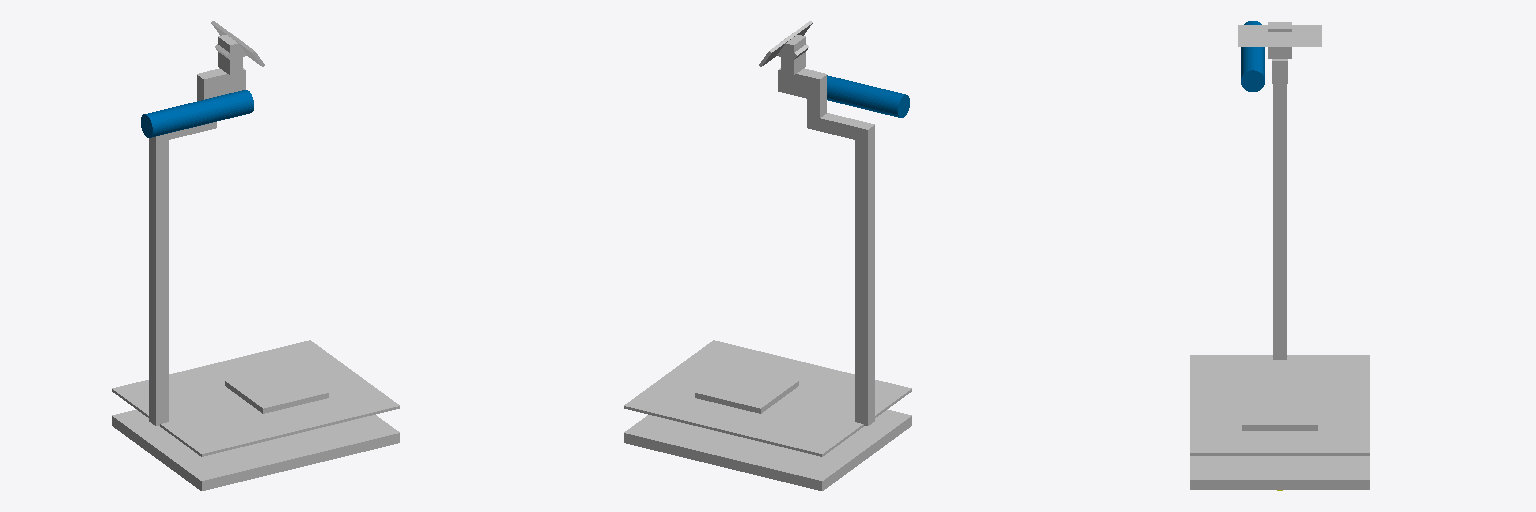
--- Render facts (derived) ---
Views: 3 orthographic renders of the robot side by side, from view 1: azimuth 30°, elevation 25°; view 2: azimuth 150°, elevation 25°; view 3: azimuth 270°, elevation 25°.
Robot: kurtana — 45 links, 44 joints (9 revolute, 6 continuous, 29 fixed); root link base_footprint; default pose: joints at zero except 1 at the middle of their limits (kurtana_pitch_joint = 1).
Links seen in each view (by area): view 1: kurtana_baseplate_link, kurtana_rackplate_link, kurtana_pole_link, katana_baseplate_link, kurtana_microphone_link, kurtana_pitch_servo_link, kurtana_roll_servo_link; view 2: kurtana_baseplate_link, kurtana_rackplate_link, kurtana_pole_link, katana_baseplate_link, kurtana_microphone_link, kurtana_horizontal_square_bar_link, kurtana_vertical_square_bar_link, kurtana_pitch_servo_link, kurtana_roll_servo_link; view 3: kurtana_baseplate_link, kurtana_rackplate_link, kurtana_pole_link, katana_baseplate_link, kurtana_kinect_mounting_plate_link, kurtana_microphone_link.
Link boxes in pixels (<box>): kurtana_baseplate_link: <box>112,340,399,456</box>; kurtana_rackplate_link: <box>112,409,399,490</box>; kurtana_pole_link: <box>149,133,168,425</box>; katana_baseplate_link: <box>225,365,328,413</box>; kurtana_microphone_link: <box>141,90,253,137</box>; kurtana_pitch_servo_link: <box>218,33,242,74</box>; kurtana_roll_servo_link: <box>210,68,245,95</box>; kurtana_baseplate_link: <box>624,340,911,456</box>; kurtana_rackplate_link: <box>624,409,911,490</box>; kurtana_pole_link: <box>855,122,874,425</box>; katana_baseplate_link: <box>695,365,798,413</box>; kurtana_microphone_link: <box>827,75,909,117</box>; kurtana_horizontal_square_bar_link: <box>807,113,862,139</box>; kurtana_vertical_square_bar_link: <box>807,71,826,117</box>; kurtana_pitch_servo_link: <box>781,33,805,74</box>; kurtana_roll_servo_link: <box>778,68,813,98</box>; kurtana_baseplate_link: <box>1190,355,1369,455</box>; kurtana_rackplate_link: <box>1190,456,1369,489</box>; kurtana_pole_link: <box>1273,100,1286,359</box>; katana_baseplate_link: <box>1242,393,1317,430</box>; kurtana_kinect_mounting_plate_link: <box>1238,25,1321,46</box>; kurtana_microphone_link: <box>1241,21,1264,91</box>.
Size in the robot's own frame: 0.525 by 0.368 by 0.9227 metres.
Meshes: 13 distinct files referenced, 0 mesh visuals loaded (none loaded); not drawn: 18 (reference not matched to a file when rendering).

The robot description file, URDF, robot "kurtana":
<?xml version="1.0" ?>
<!-- =================================================================================== -->
<!-- |    This document was autogenerated by xacro from [local-path]/groovy_rosbuild_workspace/kurt_driver/kurt_description/robots/kurtana.urdf.xacro | -->
<!-- |    EDITING THIS FILE BY HAND IS NOT RECOMMENDED                                 | -->
<!-- =================================================================================== -->
<robot name="kurtana" xmlns:controller="http://playerstage.sourceforge.net/gazebo/xmlschema/#controller" xmlns:interface="http://playerstage.sourceforge.net/gazebo/xmlschema/#interface" xmlns:sensor="http://playerstage.sourceforge.net/gazebo/xmlschema/#sensor" xmlns:xacro="http://ros.org/wiki/xacro">
  <!-- distance from base_link to top of cover surface -->
  <link name="ultrasound_front">
    <visual>
      <origin rpy="0 1.57079632679 0" xyz="0 0 0"/>
      <geometry>
        <cylinder length="0.005" radius="0.01"/>
      </geometry>
      <material name="yellow">
        <color rgba="1.0 1.0 0.0 1.0"/>
      </material>
    </visual>
    <collision>
      <origin rpy="0 1.57079632679 0" xyz="0 0 0"/>
      <geometry>
        <cylinder length="0.005" radius="0.01"/>
      </geometry>
    </collision>
    <inertial>
      <mass value="0.01"/>
      <origin xyz="0 0 0"/>
      <inertia ixx="2.70833225e-07" ixy="0.0" ixz="0.0" iyy="2.70833225e-07" iyz="0.0" izz="5e-07"/>
    </inertial>
  </link>
  <link name="ir_right_front">
    <visual>
      <origin rpy="0 0 0" xyz="0 0 0"/>
      <geometry>
        <box size="0.01 0.02 0.01"/>
      </geometry>
      <material name="light_grey">
        <color rgba="0.9 0.9 0.9 1.0"/>
      </material>
    </visual>
    <collision>
      <origin rpy="0 0 0" xyz="0 0 0"/>
      <geometry>
        <box size="0.01 0.02 0.01"/>
      </geometry>
    </collision>
    <inertial>
      <mass value="0.01"/>
      <origin xyz="0 0 0"/>
      <inertia ixx="4.166665e-07" ixy="0.0" ixz="0.0" iyy="1.666666e-07" iyz="0.0" izz="4.166665e-07"/>
    </inertial>
  </link>
  <link name="ir_right">
    <visual>
      <origin rpy="0 0 0" xyz="0 0 0"/>
      <geometry>
        <box size="0.01 0.02 0.01"/>
      </geometry>
      <material name="light_grey">
        <color rgba="0.9 0.9 0.9 1.0"/>
      </material>
    </visual>
    <collision>
      <origin rpy="0 0 0" xyz="0 0 0"/>
      <geometry>
        <box size="0.01 0.02 0.01"/>
      </geometry>
    </collision>
    <inertial>
      <mass value="0.01"/>
      <origin xyz="0 0 0"/>
      <inertia ixx="4.166665e-07" ixy="0.0" ixz="0.0" iyy="1.666666e-07" iyz="0.0" izz="4.166665e-07"/>
    </inertial>
  </link>
  <link name="ir_right_back">
    <visual>
      <origin rpy="0 0 0" xyz="0 0 0"/>
      <geometry>
        <box size="0.01 0.02 0.01"/>
      </geometry>
      <material name="light_grey">
        <color rgba="0.9 0.9 0.9 1.0"/>
      </material>
    </visual>
    <collision>
      <origin rpy="0 0 0" xyz="0 0 0"/>
      <geometry>
        <box size="0.01 0.02 0.01"/>
      </geometry>
    </collision>
    <inertial>
      <mass value="0.01"/>
      <origin xyz="0 0 0"/>
      <inertia ixx="4.166665e-07" ixy="0.0" ixz="0.0" iyy="1.666666e-07" iyz="0.0" izz="4.166665e-07"/>
    </inertial>
  </link>
  <link name="ir_back">
    <visual>
      <origin rpy="0 0 0" xyz="0 0 0"/>
      <geometry>
        <box size="0.01 0.02 0.01"/>
      </geometry>
      <material name="light_grey">
        <color rgba="0.9 0.9 0.9 1.0"/>
      </material>
    </visual>
    <collision>
      <origin rpy="0 0 0" xyz="0 0 0"/>
      <geometry>
        <box size="0.01 0.02 0.01"/>
      </geometry>
    </collision>
    <inertial>
      <mass value="0.01"/>
      <origin xyz="0 0 0"/>
      <inertia ixx="4.166665e-07" ixy="0.0" ixz="0.0" iyy="1.666666e-07" iyz="0.0" izz="4.166665e-07"/>
    </inertial>
  </link>
  <link name="ir_left_back">
    <visual>
      <origin rpy="0 0 0" xyz="0 0 0"/>
      <geometry>
        <box size="0.01 0.02 0.01"/>
      </geometry>
      <material name="light_grey">
        <color rgba="0.9 0.9 0.9 1.0"/>
      </material>
    </visual>
    <collision>
      <origin rpy="0 0 0" xyz="0 0 0"/>
      <geometry>
        <box size="0.01 0.02 0.01"/>
      </geometry>
    </collision>
    <inertial>
      <mass value="0.01"/>
      <origin xyz="0 0 0"/>
      <inertia ixx="4.166665e-07" ixy="0.0" ixz="0.0" iyy="1.666666e-07" iyz="0.0" izz="4.166665e-07"/>
    </inertial>
  </link>
  <link name="ir_left">
    <visual>
      <origin rpy="0 0 0" xyz="0 0 0"/>
      <geometry>
        <box size="0.01 0.02 0.01"/>
      </geometry>
      <material name="light_grey">
        <color rgba="0.9 0.9 0.9 1.0"/>
      </material>
    </visual>
    <collision>
      <origin rpy="0 0 0" xyz="0 0 0"/>
      <geometry>
        <box size="0.01 0.02 0.01"/>
      </geometry>
    </collision>
    <inertial>
      <mass value="0.01"/>
      <origin xyz="0 0 0"/>
      <inertia ixx="4.166665e-07" ixy="0.0" ixz="0.0" iyy="1.666666e-07" iyz="0.0" izz="4.166665e-07"/>
    </inertial>
  </link>
  <link name="ir_left_front">
    <visual>
      <origin rpy="0 0 0" xyz="0 0 0"/>
      <geometry>
        <box size="0.01 0.02 0.01"/>
      </geometry>
      <material name="light_grey">
        <color rgba="0.9 0.9 0.9 1.0"/>
      </material>
    </visual>
    <collision>
      <origin rpy="0 0 0" xyz="0 0 0"/>
      <geometry>
        <box size="0.01 0.02 0.01"/>
      </geometry>
    </collision>
    <inertial>
      <mass value="0.01"/>
      <origin xyz="0 0 0"/>
      <inertia ixx="4.166665e-07" ixy="0.0" ixz="0.0" iyy="1.666666e-07" iyz="0.0" izz="4.166665e-07"/>
    </inertial>
  </link>
  <joint name="base_ultrasound_front" type="fixed">
    <parent link="base_link"/>
    <child link="ultrasound_front"/>
    <origin rpy="0 0 0" xyz="0.217 0 0"/>
  </joint>
  <joint name="base_ir_right_front" type="fixed">
    <parent link="base_link"/>
    <child link="ir_right_front"/>
    <origin rpy="0 0 5.49778714378" xyz="0.203 -0.153 0"/>
  </joint>
  <joint name="base_ir_right" type="fixed">
    <parent link="base_link"/>
    <child link="ir_right"/>
    <origin rpy="0 0 4.71238898038" xyz="0 -0.165 0"/>
  </joint>
  <joint name="base_ir_right_back" type="fixed">
    <parent link="base_link"/>
    <child link="ir_right_back"/>
    <origin rpy="0 0 3.92699081699" xyz="-0.203 -0.153 0"/>
  </joint>
  <joint name="base_ir_back" type="fixed">
    <parent link="base_link"/>
    <child link="ir_back"/>
    <origin rpy="0 0 3.14159265359" xyz="-0.217 0 0"/>
  </joint>
  <joint name="base_ir_left_back" type="fixed">
    <parent link="base_link"/>
    <child link="ir_left_back"/>
    <origin rpy="0 0 2.35619449019" xyz="-0.203 0.153 0"/>
  </joint>
  <joint name="base_ir_left" type="fixed">
    <parent link="base_link"/>
    <child link="ir_left"/>
    <origin rpy="0 0 1.57079632679" xyz="0 0.165 0"/>
  </joint>
  <joint name="base_ir_left_front" type="fixed">
    <parent link="base_link"/>
    <child link="ir_left_front"/>
    <origin rpy="0 0 0.785398163397" xyz="0.203 0.153 0"/>
  </joint>
  <link name="base_link">
    <visual>
      <origin rpy="0 0 0" xyz="0 0 0"/>
      <geometry>
        <mesh filename="package://kurt_description/meshes/kurt_base_outdoor.stl"/>
      </geometry>
      <material name="red">
        <color rgba="1 0 0 1"/>
      </material>
    </visual>
    <collision>
      <origin rpy="0 0 0" xyz="0 0 0"/>
      <geometry>
        <mesh filename="package://kurt_description/meshes/kurt_base_outdoor.stl"/>
      </geometry>
    </collision>
    <!-- <visual>
      <geometry>
        <box size=".43 .325 .215" />
      </geometry>
      <material name="red" >
        <color rgba="1 0 0 1" />
      </material>
    </visual> -->
    <inertial>
      <mass value="15.6"/>
      <origin xyz="0.0 0.0 -0.040426445"/>
      <inertia ixx="0.1185264288" ixy="0.0" ixz="0.0" iyy="0.1927711968" iyz="0.0" izz="0.2402081448"/>
    </inertial>
  </link>
  <gazebo reference="base_link">
    <material value="Gazebo/Red"/>
  </gazebo>
  <gazebo>
    <plugin filename="libgazebo_ros_kurt.so" name="kurt_controller">
      <alwaysOn>true</alwaysOn>
      <cmd_vel_topic_name>cmd_vel</cmd_vel_topic_name>
      <odom_topic_name>odom</odom_topic_name>
      <joint_states_topic_name>joint_states</joint_states_topic_name>
      <left_front_wheel_joint>left_front_wheel_joint</left_front_wheel_joint>
      <left_middle_wheel_joint>left_middle_wheel_joint</left_middle_wheel_joint>
      <left_rear_wheel_joint>left_rear_wheel_joint</left_rear_wheel_joint>
      <right_front_wheel_joint>right_front_wheel_joint</right_front_wheel_joint>
      <right_middle_wheel_joint>right_middle_wheel_joint</right_middle_wheel_joint>
      <right_rear_wheel_joint>right_rear_wheel_joint</right_rear_wheel_joint>
      <wheel_separation>0.39</wheel_separation>
      <wheel_diameter>0.16488</wheel_diameter>
      <turning_adaptation>0.64</turning_adaptation>
      <torque>4.0</torque>
      <max_velocity>1.3</max_velocity>
      <updateRate>40.0</updateRate>
    </plugin>
  </gazebo>
  <gazebo>
    <plugin filename="libgazebo_ros_p3d.so" name="base_footprint_controller">
      <alwaysOn>true</alwaysOn>
      <updateRate>30.0</updateRate>
      <bodyName>base_footprint</bodyName>
      <topicName>base_footprint_pose_ground_truth</topicName>
      <gaussianNoise>0.0</gaussianNoise>
      <frameName>map</frameName>
      <interface:position name="base_footprint_p3d_position_iface"/>
    </plugin>
  </gazebo>
  <gazebo>
    <plugin filename="libgazebo_ros_imu.so" name="imu_controller">
      <alwaysOn>true</alwaysOn>
      <updateRate>100.0</updateRate>
      <bodyName>base_link</bodyName>
      <topicName>imu</topicName>
      <gaussianNoise>2.89e-08</gaussianNoise>
      <xyzOffsets>0 0 0</xyzOffsets>
      <rpyOffsets>0 0 0</rpyOffsets>
      <interface:position name="imu_position"/>
    </plugin>
  </gazebo>
  <link name="left_front_wheel_link">
    <visual>
      <origin rpy="0 0 0" xyz="0 0 0"/>
      <geometry>
        <mesh filename="package://kurt_description/meshes/kurt_wheel_outdoor.stl"/>
      </geometry>
      <material name="blackish">
        <color rgba="0.1 0.1 0.1 1"/>
      </material>
    </visual>
    <collision>
      <origin rpy="0 0 0" xyz="0 0 0"/>
      <geometry>
        <mesh filename="package://kurt_description/meshes/kurt_wheel_outdoor.stl"/>
        <!-- <cylinder length="${wheel_width}" radius="${wheel_radius}" /> -->
      </geometry>
    </collision>
    <inertial>
      <mass value="0.15"/>
      <origin xyz="0 0 0"/>
      <inertia ixx="0.000177810" ixy="0.0" ixz="0.0" iyy="0.000332643" iyz="0.0" izz="0.000177810"/>
    </inertial>
  </link>
  <joint name="left_front_wheel_joint" type="continuous">
    <origin rpy="0 0 0" xyz="0.14 0.14 -0.107"/>
    <parent link="base_link"/>
    <child link="left_front_wheel_link"/>
    <axis xyz="0 1 0"/>
  </joint>
  <gazebo reference="kurt_wheel_left_front">
    <material value="Gazebo/Grey"/>
  </gazebo>
  <link name="left_middle_wheel_link">
    <visual>
      <origin rpy="0 0 0" xyz="0 0 0"/>
      <geometry>
        <mesh filename="package://kurt_description/meshes/kurt_wheel_outdoor.stl"/>
      </geometry>
      <material name="blackish">
        <color rgba="0.1 0.1 0.1 1"/>
      </material>
    </visual>
    <collision>
      <origin rpy="0 0 0" xyz="0 0 0"/>
      <geometry>
        <mesh filename="package://kurt_description/meshes/kurt_wheel_outdoor.stl"/>
        <!-- <cylinder length="${wheel_width}" radius="${wheel_radius}" /> -->
      </geometry>
    </collision>
    <inertial>
      <mass value="0.15"/>
      <origin xyz="0 0 0"/>
      <inertia ixx="0.000177810" ixy="0.0" ixz="0.0" iyy="0.000332643" iyz="0.0" izz="0.000177810"/>
    </inertial>
  </link>
  <joint name="left_middle_wheel_joint" type="continuous">
    <origin rpy="0 0 0" xyz="0 0.195 -0.107"/>
    <parent link="base_link"/>
    <child link="left_middle_wheel_link"/>
    <axis xyz="0 1 0"/>
  </joint>
  <gazebo reference="kurt_wheel_left_middle">
    <material value="Gazebo/Grey"/>
  </gazebo>
  <link name="left_rear_wheel_link">
    <visual>
      <origin rpy="0 0 0" xyz="0 0 0"/>
      <geometry>
        <mesh filename="package://kurt_description/meshes/kurt_wheel_outdoor.stl"/>
      </geometry>
      <material name="blackish">
        <color rgba="0.1 0.1 0.1 1"/>
      </material>
    </visual>
    <collision>
      <origin rpy="0 0 0" xyz="0 0 0"/>
      <geometry>
        <mesh filename="package://kurt_description/meshes/kurt_wheel_outdoor.stl"/>
        <!-- <cylinder length="${wheel_width}" radius="${wheel_radius}" /> -->
      </geometry>
    </collision>
    <inertial>
      <mass value="0.15"/>
      <origin xyz="0 0 0"/>
      <inertia ixx="0.000177810" ixy="0.0" ixz="0.0" iyy="0.000332643" iyz="0.0" izz="0.000177810"/>
    </inertial>
  </link>
  <joint name="left_rear_wheel_joint" type="continuous">
    <origin rpy="0 0 0" xyz="-0.14 0.14 -0.107"/>
    <parent link="base_link"/>
    <child link="left_rear_wheel_link"/>
    <axis xyz="0 1 0"/>
  </joint>
  <gazebo reference="kurt_wheel_left_rear">
    <material value="Gazebo/Grey"/>
  </gazebo>
  <link name="right_front_wheel_link">
    <visual>
      <origin rpy="0 0 0" xyz="0 0 0"/>
      <geometry>
        <mesh filename="package://kurt_description/meshes/kurt_wheel_outdoor.stl"/>
      </geometry>
      <material name="blackish">
        <color rgba="0.1 0.1 0.1 1"/>
      </material>
    </visual>
    <collision>
      <origin rpy="0 0 0" xyz="0 0 0"/>
      <geometry>
        <mesh filename="package://kurt_description/meshes/kurt_wheel_outdoor.stl"/>
        <!-- <cylinder length="${wheel_width}" radius="${wheel_radius}" /> -->
      </geometry>
    </collision>
    <inertial>
      <mass value="0.15"/>
      <origin xyz="0 0 0"/>
      <inertia ixx="0.000177810" ixy="0.0" ixz="0.0" iyy="0.000332643" iyz="0.0" izz="0.000177810"/>
    </inertial>
  </link>
  <joint name="right_front_wheel_joint" type="continuous">
    <origin rpy="0 0 0" xyz="0.14 -0.14 -0.107"/>
    <parent link="base_link"/>
    <child link="right_front_wheel_link"/>
    <axis xyz="0 1 0"/>
  </joint>
  <gazebo reference="kurt_wheel_right_front">
    <material value="Gazebo/Grey"/>
  </gazebo>
  <link name="right_middle_wheel_link">
    <visual>
      <origin rpy="0 0 0" xyz="0 0 0"/>
      <geometry>
        <mesh filename="package://kurt_description/meshes/kurt_wheel_outdoor.stl"/>
      </geometry>
      <material name="blackish">
        <color rgba="0.1 0.1 0.1 1"/>
      </material>
    </visual>
    <collision>
      <origin rpy="0 0 0" xyz="0 0 0"/>
      <geometry>
        <mesh filename="package://kurt_description/meshes/kurt_wheel_outdoor.stl"/>
        <!-- <cylinder length="${wheel_width}" radius="${wheel_radius}" /> -->
      </geometry>
    </collision>
    <inertial>
      <mass value="0.15"/>
      <origin xyz="0 0 0"/>
      <inertia ixx="0.000177810" ixy="0.0" ixz="0.0" iyy="0.000332643" iyz="0.0" izz="0.000177810"/>
    </inertial>
  </link>
  <joint name="right_middle_wheel_joint" type="continuous">
    <origin rpy="0 0 0" xyz="0 -0.195 -0.107"/>
    <parent link="base_link"/>
    <child link="right_middle_wheel_link"/>
    <axis xyz="0 1 0"/>
  </joint>
  <gazebo reference="kurt_wheel_right_middle">
    <material value="Gazebo/Grey"/>
  </gazebo>
  <link name="right_rear_wheel_link">
    <visual>
      <origin rpy="0 0 0" xyz="0 0 0"/>
      <geometry>
        <mesh filename="package://kurt_description/meshes/kurt_wheel_outdoor.stl"/>
      </geometry>
      <material name="blackish">
        <color rgba="0.1 0.1 0.1 1"/>
      </material>
    </visual>
    <collision>
      <origin rpy="0 0 0" xyz="0 0 0"/>
      <geometry>
        <mesh filename="package://kurt_description/meshes/kurt_wheel_outdoor.stl"/>
        <!-- <cylinder length="${wheel_width}" radius="${wheel_radius}" /> -->
      </geometry>
    </collision>
    <inertial>
      <mass value="0.15"/>
      <origin xyz="0 0 0"/>
      <inertia ixx="0.000177810" ixy="0.0" ixz="0.0" iyy="0.000332643" iyz="0.0" izz="0.000177810"/>
    </inertial>
  </link>
  <joint name="right_rear_wheel_joint" type="continuous">
    <origin rpy="0 0 0" xyz="-0.14 -0.14 -0.107"/>
    <parent link="base_link"/>
    <child link="right_rear_wheel_link"/>
    <axis xyz="0 1 0"/>
  </joint>
  <gazebo reference="kurt_wheel_right_rear">
    <material value="Gazebo/Grey"/>
  </gazebo>
  <link name="base_footprint">
    <!-- this needs to have a fake inertial element, otherwise all children will be ignored by Gazebo -->
    <inertial>
      <mass value="0.0001"/>
      <origin xyz="0 0 0"/>
      <inertia ixx="0.0001" ixy="0.0" ixz="0.0" iyy="0.0001" iyz="0.0" izz="0.0001"/>
    </inertial>
  </link>
  <joint name="base_footprint_joint" type="fixed">
    <origin rpy="0 0 0" xyz="0 0 0.18944"/>
    <parent link="base_footprint"/>
    <child link="base_link"/>
  </joint>
  <link name="kurtana_rackplate_link">
    <visual>
      <origin rpy="0 0 0" xyz="0 0 0"/>
      <geometry>
        <box size="0.47 0.368 0.023"/>
      </geometry>
      <material name="grey">
        <color rgba="0.8 0.8 0.8 1"/>
      </material>
    </visual>
    <collision>
      <origin rpy="0 0 0" xyz="0 0 0"/>
      <geometry>
        <box size="0.47 0.368 0.023"/>
      </geometry>
    </collision>
    <inertial>
      <mass value="0.5"/>
      <origin xyz="0 0 0"/>
      <inertia ixx="0.00566470606745" ixy="0.0" ixz="0.0" iyy="0.00922620464285" iyz="0.0" izz="0.0148468273946"/>
    </inertial>
  </link>
  <joint name="kurtana_baseplate_joint" type="fixed">
    <parent link="kurtana_rackplate_link"/>
    <child link="kurtana_baseplate_link"/>
    <origin xyz="0 0 0.0695"/>
  </joint>
  <link name="kurtana_baseplate_link">
    <visual>
      <origin rpy="0 0 0" xyz="0 0 0"/>
      <geometry>
        <box size="0.47 0.368 0.006"/>
      </geometry>
      <material name="grey"/>
    </visual>
    <collision>
      <origin rpy="0 0 0" xyz="0 0 0"/>
      <geometry>
        <box size="0.47 0.368 0.006"/>
      </geometry>
    </collision>
    <inertial>
      <mass value="0.5"/>
      <origin xyz="0 0 0"/>
      <inertia ixx="0.005644164409" ixy="0.0" ixz="0.0" iyy="0.0092056629844" iyz="0.0" izz="0.0148468273946"/>
    </inertial>
  </link>
  <joint name="katana_baseplate_joint" type="fixed">
    <parent link="kurtana_baseplate_link"/>
    <child link="katana_baseplate_link"/>
    <origin xyz="0.05 0 0.009"/>
  </joint>
  <link name="katana_baseplate_link">
    <visual>
      <origin rpy="0 0 0" xyz="0 0 0"/>
      <geometry>
        <box size="0.156 0.156 0.012"/>
      </geometry>
      <material name="grey"/>
    </visual>
    <collision>
      <origin rpy="0 0 0" xyz="0 0 0"/>
      <geometry>
        <box size="0.156 0.156 0.012"/>
      </geometry>
    </collision>
    <inertial>
      <mass value="0.4"/>
      <origin xyz="0 0 0"/>
      <inertia ixx="0.0008159996736" ixy="0.0" ixz="0.0" iyy="0.0008159996736" iyz="0.0" izz="0.00162239935104"/>
    </inertial>
  </link>
  <joint name="kurtana_pole_joint" type="fixed">
    <parent link="kurtana_baseplate_link"/>
    <child link="kurtana_pole_link"/>
    <origin xyz="-0.23 0 0.335"/>
  </joint>
  <link name="kurtana_pole_link">
    <visual>
      <origin rpy="0 0 0" xyz="0 0 0"/>
      <geometry>
        <box size="0.03 0.03 0.67"/>
      </geometry>
      <material name="grey"/>
    </visual>
    <collision>
      <origin rpy="0 0 0" xyz="0 0 0"/>
      <geometry>
        <box size="0.03 0.03 0.67"/>
      </geometry>
    </collision>
    <inertial>
      <mass value="3.0"/>
      <origin xyz="0 0 0"/>
      <inertia ixx="0.11244995502" ixy="0.0" ixz="0.0" iyy="0.11244995502" iyz="0.0" izz="0.00044999982"/>
    </inertial>
  </link>
  <joint name="kurtana_microphone_joint" type="fixed">
    <parent link="kurtana_pole_link"/>
    <child link="kurtana_microphone_link"/>
    <origin xyz="0.06 -0.055 0.37"/>
  </joint>
  <link name="kurtana_microphone_link">
    <visual>
      <origin rpy="0 1.57079632679 0" xyz="0 0 0"/>
      <geometry>
        <cylinder length="0.24" radius="0.025"/>
      </geometry>
      <material name="black"/>
    </visual>
    <collision>
      <origin rpy="0 1.57079632679 0" xyz="0 0 0"/>
      <geometry>
        <cylinder length="0.24" radius="0.025"/>
      </geometry>
    </collision>
    <inertial>
      <mass value="0.3"/>
      <origin xyz="0 0 0"/>
      <inertia ixx="0.00148687440525" ixy="0.0" ixz="0.0" iyy="0.00148687440525" iyz="0.0" izz="9.375e-05"/>
    </inertial>
  </link>
  <joint name="kurtana_horizontal_square_bar_joint" type="fixed">
    <parent link="kurtana_pole_link"/>
    <child link="kurtana_horizontal_square_bar_link"/>
    <origin xyz="0.0715 0 0.32"/>
  </joint>
  <link name="kurtana_horizontal_square_bar_link">
    <visual>
      <origin rpy="0 0 0" xyz="0 0 0"/>
      <geometry>
        <box size="0.113 0.03 0.03"/>
      </geometry>
      <material name="grey"/>
    </visual>
    <collision>
      <origin rpy="0 0 0" xyz="0 0 0"/>
      <geometry>
        <box size="0.113 0.03 0.03"/>
      </geometry>
    </collision>
    <inertial>
      <mass value="0.1"/>
      <origin xyz="0 0 0"/>
      <inertia ixx="1.4999994e-05" ixy="0.0" ixz="0.0" iyy="0.00011390828777" iyz="0.0" izz="0.00011390828777"/>
    </inertial>
  </link>
  <joint name="kurtana_vertical_square_bar_joint" type="fixed">
    <parent link="kurtana_horizontal_square_bar_link"/>
    <child link="kurtana_vertical_square_bar_link"/>
    <origin xyz="0.0415 0 0.05875"/>
  </joint>
  <link name="kurtana_vertical_square_bar_link">
    <visual>
      <origin rpy="0 0 0" xyz="0 0 0"/>
      <geometry>
        <box size="0.03 0.03 0.0875"/>
      </geometry>
      <material name="grey"/>
    </visual>
    <collision>
      <origin rpy="0 0 0" xyz="0 0 0"/>
      <geometry>
        <box size="0.03 0.03 0.0875"/>
      </geometry>
    </collision>
    <inertial>
      <mass value="0.1"/>
      <origin xyz="0 0 0"/>
      <inertia ixx="7.13020548125e-05" ixy="0.0" ixz="0.0" iyy="7.13020548125e-05" iyz="0.0" izz="1.4999994e-05"/>
    </inertial>
  </link>
  <joint name="kurtana_roll_servo_joint" type="fixed">
    <parent link="kurtana_vertical_square_bar_link"/>
    <child link="kurtana_roll_servo_link"/>
    <origin xyz="0.049 0 0.01875"/>
  </joint>
  <link name="kurtana_roll_servo_link">
    <visual>
      <origin rpy="0 0 0" xyz="0 0 0"/>
      <geometry>
        <box size="0.068 0.032 0.05"/>
      </geometry>
      <material name="grey"/>
    </visual>
    <collision>
      <origin rpy="0 0 0" xyz="0 0 0"/>
      <geometry>
        <box size="0.068 0.032 0.05"/>
      </geometry>
    </collision>
    <inertial>
      <mass value="0.15"/>
      <origin xyz="0 0 0"/>
      <inertia ixx="4.404998238e-05" ixy="0.0" ixz="0.0" iyy="8.904996438e-05" iyz="0.0" izz="7.059997176e-05"/>
    </inertial>
  </link>
  <joint name="kurtana_roll_joint" type="revolute">
    <parent link="kurtana_roll_servo_link"/>
    <child link="kurtana_pitch_servo_link"/>
    <origin xyz="0.008 0 0.059"/>
    <axis xyz="0 0 1"/>
    <limit effort="1000.0" lower="-0.5" upper="0.5" velocity="2.0"/>
  </joint>
  <link name="kurtana_pitch_servo_link">
    <visual>
      <origin rpy="0 0 0" xyz="0 0 0"/>
      <geometry>
        <box size="0.032 0.05 0.068"/>
      </geometry>
      <material name="grey"/>
    </visual>
    <collision>
      <origin rpy="0 0 0" xyz="0 0 0"/>
      <geometry>
        <box size="0.032 0.05 0.068"/>
      </geometry>
    </collision>
    <inertial>
      <mass value="0.15"/>
      <origin xyz="0 0 0"/>
      <inertia ixx="8.904996438e-05" ixy="0.0" ixz="0.0" iyy="7.059997176e-05" iyz="0.0" izz="4.404998238e-05"/>
    </inertial>
  </link>
  <joint name="kurtana_pitch_joint" type="revolute">
    <parent link="kurtana_pitch_servo_link"/>
    <child link="kurtana_pitch_servo_movable_part_link"/>
    <origin rpy="0 0 0" xyz="0 0 0.008"/>
    <axis xyz="0 1 0"/>
    <limit effort="1000.0" lower="0.8" upper="1.2" velocity="2.0"/>
  </joint>
  <link name="kurtana_pitch_servo_movable_part_link">
    <visual>
      <origin rpy="0 0 0" xyz="0 0 0"/>
      <geometry>
        <box size="0.032 0.05 0.035"/>
      </geometry>
      <material name="grey"/>
    </visual>
    <collision>
      <origin rpy="0 0 0" xyz="0 0 0"/>
      <geometry>
        <box size="0.032 0.05 0.035"/>
      </geometry>
    </collision>
    <inertial>
      <mass value="0.15"/>
      <origin xyz="0 0 0"/>
      <inertia ixx="4.6562481375e-05" ixy="0.0" ixz="0.0" iyy="2.8112488755e-05" iyz="0.0" izz="4.404998238e-05"/>
    </inertial>
  </link>
  <joint name="kurtana_kinect_mounting_plate_joint" type="fixed">
    <parent link="kurtana_pitch_servo_movable_part_link"/>
    <child link="kurtana_kinect_mounting_plate_link"/>
    <origin rpy="0 0 0" xyz="0 0 0.021"/>
  </joint>
  <link name="kurtana_kinect_mounting_plate_link">
    <visual>
      <origin rpy="0 0 0" xyz="0 0 0"/>
      <geometry>
        <box size="0.045 0.17 0.007"/>
      </geometry>
      <material name="grey"/>
    </visual>
    <collision>
      <origin rpy="0 0 0" xyz="0 0 0"/>
      <geometry>
        <box size="0.045 0.17 0.007"/>
      </geometry>
    </collision>
    <inertial>
      <mass value="0.05"/>
      <origin xyz="0 0 0"/>
      <inertia ixx="0.000120620785085" ixy="0.0" ixz="0.0" iyy="8.64166321e-06" iyz="0.0" izz="0.000128854115125"/>
    </inertial>
  </link>
  <transmission name="kurtana_stretch_trans" type="pr2_mechanism_model/SimpleTransmission">
    <actuator name="kurtana_stretch_motor"/>
    <joint name="kurtana_stretch_joint"/>
    <mechanicalReduction>1</mechanicalReduction>
    <motorTorqueConstant>1</motorTorqueConstant>
  </transmission>
  <transmission name="kurtana_roll_trans" type="pr2_mechanism_model/SimpleTransmission">
    <actuator name="kurtana_roll_motor"/>
    <joint name="kurtana_roll_joint"/>
    <mechanicalReduction>1</mechanicalReduction>
    <motorTorqueConstant>1</motorTorqueConstant>
  </transmission>
  <transmission name="kurtana_pitch_trans" type="pr2_mechanism_model/SimpleTransmission">
    <actuator name="kurtana_pitch_motor"/>
    <joint name="kurtana_pitch_joint"/>
    <mechanicalReduction>1</mechanicalReduction>
    <motorTorqueConstant>1</motorTorqueConstant>
  </transmission>
  <gazebo reference="kurtana_rackplate_link">
    <material value="PR2/Grey1"/>
  </gazebo>
  <gazebo reference="kurtana_baseplate_link">
    <material value="PR2/Grey1"/>
  </gazebo>
  <gazebo reference="kurtana_pole_link">
    <material value="PR2/Grey1"/>
  </gazebo>
  <gazebo reference="kurtana_innerpole_stretch_link">
    <material value="PR2/Grey1"/>
  </gazebo>
  <gazebo reference="kurtana_poletop_roll_link">
    <material value="PR2/Grey1"/>
  </gazebo>
  <gazebo reference="kurtana_pitchpole_link">
    <material value="PR2/Grey1"/>
  </gazebo>
  <link name="kinect_link">
    <visual>
      <origin rpy="0 0 0" xyz="0 0 0"/>
      <geometry>
        <mesh filename="package://pr2_description/meshes/sensors/kinect_v0/kinect.dae" scale="0.001 0.001 0.001"/>
      </geometry>
    </visual>
    <collision>
      <origin rpy="0 0 0" xyz="-0.0315 0 -0.017"/>
      <geometry>
        <box size="0.0730 0.2760 0.0720"/>
      </geometry>
    </collision>
    <inertial>
      <mass value="0.43"/>
      <origin xyz="0 0 0"/>
      <inertia ixx="0.00291539883384" ixy="0.0" ixz="0.0" iyy="0.000376715682647" iyz="0.0" izz="0.0029205946651"/>
    </inertial>
  </link>
  <joint name="kinect_depth_joint" type="fixed">
    <origin rpy="0 0 0" xyz="0 0.018 0"/>
    <parent link="kinect_link"/>
    <child link="kinect_depth_frame"/>
  </joint>
  <link name="kinect_depth_frame">
    <inertial>
      <mass value="0.000001"/>
      <origin xyz="0 0 0"/>
      <inertia ixx="0.0001" ixy="0.0" ixz="0.0" iyy="0.0001" iyz="0.0" izz="0.0001"/>
    </inertial>
  </link>
  <joint name="kinect_depth_optical_joint" type="fixed">
    <origin rpy="-1.57079632679 0 -1.57079632679" xyz="0 0 0"/>
    <parent link="kinect_depth_frame"/>
    <child link="kinect_depth_optical_frame"/>
  </joint>
  <link name="kinect_depth_optical_frame">
    <inertial>
      <mass value="0.000001"/>
      <origin xyz="0 0 0"/>
      <inertia ixx="0.0001" ixy="0.0" ixz="0.0" iyy="0.0001" iyz="0.0" izz="0.0001"/>
    </inertial>
  </link>
  <gazebo reference="kinect_depth_frame">
    <sensor name="kinect_depth_frame_ir_sensor" type="depth">
      <always_on>true</always_on>
      <update_rate>1.0</update_rate>
      <camera>
        <horizontal_fov>0.994837673637</horizontal_fov>
        <image>
          <format>L8</format>
          <width>640</width>
          <height>480</height>
        </image>
        <clip>
          <near>0.01</near>
          <far>5</far>
        </clip>
      </camera>
      <plugin filename="libgazebo_ros_openni_kinect.so" name="kinect_depth_frame_controller">
        <alwaysOn>true</alwaysOn>
        <updateRate>1.0</updateRate>
        <cameraName>kinect_ir</cameraName>
        <imageTopicName>/kinect/depth/image_raw</imageTopicName>
        <cameraInfoTopicName>/kinect/depth/camera_info</cameraInfoTopicName>
        <depthImageTopicName>/kinect/depth/image_raw</depthImageTopicName>
        <depthImageInfoTopicName>/kinect/depth/camera_info</depthImageInfoTopicName>
        <pointCloudTopicName>/kinect/depth/points</pointCloudTopicName>
        <frameName>kinect_depth_optical_frame</frameName>
        <pointCloudCutoff>0.5</pointCloudCutoff>
        <distortionK1>0.00000001</distortionK1>
        <distortionK2>0.00000001</distortionK2>
        <distortionK3>0.00000001</distortionK3>
        <distortionT1>0.00000001</distortionT1>
        <distortionT2>0.00000001</distortionT2>
      </plugin>
    </sensor>
    <material value="Gazebo/Red"/>
  </gazebo>
  <joint name="kinect_rgb_joint" type="fixed">
    <origin rpy="0 0 0" xyz="0 -0.005 0"/>
    <parent link="kinect_link"/>
    <child link="kinect_rgb_frame"/>
  </joint>
  <link name="kinect_rgb_frame">
    <inertial>
      <mass value="0.000001"/>
      <origin xyz="0 0 0"/>
      <inertia ixx="0.0001" ixy="0.0" ixz="0.0" iyy="0.0001" iyz="0.0" izz="0.0001"/>
    </inertial>
  </link>
  <joint name="kinect_rgb_optical_joint" type="fixed">
    <origin rpy="-1.57079632679 0 -1.57079632679" xyz="0 0 0"/>
    <parent link="kinect_rgb_frame"/>
    <child link="kinect_rgb_optical_frame"/>
  </joint>
  <link name="kinect_rgb_optical_frame">
    <inertial>
      <mass value="0.000001"/>
      <origin xyz="0 0 0"/>
      <inertia ixx="0.0001" ixy="0.0" ixz="0.0" iyy="0.0001" iyz="0.0" izz="0.0001"/>
    </inertial>
  </link>
  <gazebo reference="kinect_rgb_frame">
    <sensor name="kinect_rgb_sensor" type="depth">
      <always_on>true</always_on>
      <update_rate>1.0</update_rate>
      <camera>
        <horizontal_fov>0.994837673637</horizontal_fov>
        <image>
          <format>R8G8B8</format>
          <width>640</width>
          <height>480</height>
        </image>
        <clip>
          <near>0.01</near>
          <far>5</far>
        </clip>
      </camera>
      <plugin filename="libgazebo_ros_openni_kinect.so" name="kinect_rgb_frame_controller">
        <alwaysOn>true</alwaysOn>
        <updateRate>1.0</updateRate>
        <cameraName>kinect_rgb</cameraName>
        <imageTopicName>/kinect/rgb/image_raw</imageTopicName>
        <cameraInfoTopicName>/kinect/rgb/camera_info</cameraInfoTopicName>
        <pointCloudTopicName>/kinect/depth_registered/points</pointCloudTopicName>
        <frameName>kinect_rgb_optical_frame</frameName>
        <pointCloudCutoff>0.5</pointCloudCutoff>
        <distortionK1>0.00000001</distortionK1>
        <distortionK2>0.00000001</distortionK2>
        <distortionK3>0.00000001</distortionK3>
        <distortionT1>0.00000001</distortionT1>
        <distortionT2>0.00000001</distortionT2>
      </plugin>
    </sensor>
    <material value="Gazebo/Red"/>
  </gazebo>
  <joint name="kurtana_kinect_joint" type="fixed">
    <parent link="kurtana_kinect_mounting_plate_link"/>
    <child link="kinect_link"/>
    <origin rpy="0 0 0" xyz="0.03 0.0 0.018"/>
  </joint>
  <link name="laser_mount_link">
    <inertial>
      <mass value="0.001"/>
      <origin xyz="0 0 0"/>
      <inertia ixx="0.000001" ixy="0.0" ixz="0.0" iyy="0.000001" iyz="0.0" izz="0.000001"/>
    </inertial>
  </link>
  <joint name="laser_joint" type="fixed">
    <parent link="laser_mount_link"/>
    <child link="laser"/>
    <origin rpy="0 0 0" xyz="0 0 0.05609"/>
  </joint>
  <link name="laser">
    <visual>
      <geometry>
        <mesh filename="package://sick_tim3xx/meshes/sick_tim3xx.stl"/>
      </geometry>
      <material name="blue">
        <color rgba="0 0 1 1"/>
      </material>
    </visual>
    <collision>
      <geometry>
        <mesh filename="package://sick_tim3xx/meshes/sick_tim3xx.stl"/>
      </geometry>
    </collision>
    <inertial>
      <mass value="0.15"/>
      <origin xyz="0 0 -0.026"/>
      <inertia ixx="0.00012499995" ixy="0.0" ixz="0.0" iyy="0.00012499995" iyz="0.0" izz="8.9999964e-05"/>
    </inertial>
  </link>
  <gazebo reference="laser">
    <material value="Gazebo/Blue"/>
    <sensor:ray name="laser">
      <rayCount>271</rayCount>
      <rangeCount>271</rangeCount>
      <laserCount>1</laserCount>
      <origin>0.0 0.0 0.0</origin>
      <displayRays>false</displayRays>
      <minAngle>-135</minAngle>
      <maxAngle>135</maxAngle>
      <minRange>0.05</minRange>
      <maxRange>4.0</maxRange>
      <resRange>0.01</resRange>
      <updateRate>15.0</updateRate>
      <controller:gazebo_ros_laser name="gazebo_ros_laser_controller" plugin="libgazebo_ros_laser.so">
        <gaussianNoise>0.005</gaussianNoise>
        <alwaysOn>true</alwaysOn>
        <updateRate>15.0</updateRate>
        <topicName>scan</topicName>
        <frameName>laser</frameName>
        <interface:laser name="gazebo_ros_laser_iface"/>
      </controller:gazebo_ros_laser>
    </sensor:ray>
  </gazebo>
  <joint name="kurtana_laser_joint" type="fixed">
    <parent link="kurtana_baseplate_link"/>
    <child link="laser_mount_link"/>
    <origin rpy="0 0 0" xyz="0.205 0 0.003"/>
  </joint>
  <transmission name="katana_motor1_pan_trans" type="pr2_mechanism_model/SimpleTransmission">
    <actuator name="katana_motor1_pan_motor"/>
    <joint name="katana_motor1_pan_joint"/>
    <mechanicalReduction>1</mechanicalReduction>
    <motorTorqueConstant>1</motorTorqueConstant>
  </transmission>
  <transmission name="katana_motor2_lift_trans" type="pr2_mechanism_model/SimpleTransmission">
    <actuator name="katana_motor2_lift_motor"/>
    <joint name="katana_motor2_lift_joint"/>
    <mechanicalReduction>1</mechanicalReduction>
    <motorTorqueConstant>1</motorTorqueConstant>
  </transmission>
  <transmission name="katana_motor3_lift_trans" type="pr2_mechanism_model/SimpleTransmission">
    <actuator name="katana_motor3_lift_motor"/>
    <joint name="katana_motor3_lift_joint"/>
    <mechanicalReduction>1</mechanicalReduction>
    <motorTorqueConstant>1</motorTorqueConstant>
  </transmission>
  <transmission name="katana_motor4_lift_trans" type="pr2_mechanism_model/SimpleTransmission">
    <actuator name="katana_motor4_lift_motor"/>
    <joint name="katana_motor4_lift_joint"/>
    <mechanicalReduction>1</mechanicalReduction>
    <motorTorqueConstant>1</motorTorqueConstant>
  </transmission>
  <transmission name="katana_motor5_wrist_roll_trans" type="pr2_mechanism_model/SimpleTransmission">
    <actuator name="katana_motor5_wrist_roll_motor"/>
    <joint name="katana_motor5_wrist_roll_joint"/>
    <mechanicalReduction>1</mechanicalReduction>
    <motorTorqueConstant>1</motorTorqueConstant>
  </transmission>
  <transmission name="katana_r_finger_trans" type="pr2_mechanism_model/SimpleTransmission">
    <actuator name="katana_r_finger_motor"/>
    <joint name="katana_r_finger_joint"/>
    <mechanicalReduction>1</mechanicalReduction>
    <motorTorqueConstant>1</motorTorqueConstant>
  </transmission>
  <transmission name="katana_l_finger_trans" type="pr2_mechanism_model/SimpleTransmission">
    <actuator name="katana_l_finger_motor"/>
    <joint name="katana_l_finger_joint"/>
    <mechanicalReduction>1</mechanicalReduction>
    <motorTorqueConstant>1</motorTorqueConstant>
  </transmission>
  <gazebo>
    <!-- controller for the 5 arm joints -->
    <plugin filename="libgazebo_ros_controller_manager.so" name="gazebo_ros_controller_manager">
      <alwaysOn>true</alwaysOn>
      <updateRate>1000.0</updateRate>
      <interface:audio name="gazebo_ros_controller_manager_dummy_iface"/>
    </plugin>
    <!-- gripper controller -->
    <plugin filename="libgazebo_ros_katana_gripper.so" name="katana_gripper_controller">
      <alwaysOn>true</alwaysOn>
      <node_namespace>katana</node_namespace>
      <r_finger_joint>katana_r_finger_joint</r_finger_joint>
      <l_finger_joint>katana_l_finger_joint</l_finger_joint>
      <updateRate>1000.0</updateRate>
      <max_torque>0.5</max_torque>
    </plugin>
    <!-- a formal implementation of grasp hack in gazebo with fixed joint -->
    <gripper name="katana_gripper_grasp_hack">
      <grasp_check attach_steps="20" detach_steps="40" min_contact_count="2"/>
      <gripper_link>katana_r_finger_link</gripper_link>
      <gripper_link>katana_l_finger_link</gripper_link>
      <palm_link>katana_gripper_link</palm_link>
    </gripper>
  </gazebo>
  <gazebo reference="katana_base_link">
    <material value="Gazebo/Grey"/>
  </gazebo>
  <gazebo reference="katana_motor1_pan_link">
    <material value="Gazebo/Grey"/>
    <turnGravityOff>true</turnGravityOff>
  </gazebo>
  <gazebo reference="katana_motor2_lift_link">
    <material value="Gazebo/Grey"/>
    <turnGravityOff>true</turnGravityOff>
  </gazebo>
  <gazebo reference="katana_motor3_lift_link">
    <material value="Gazebo/Grey"/>
    <turnGravityOff>true</turnGravityOff>
  </gazebo>
  <gazebo reference="katana_motor4_lift_link">
    <material value="Gazebo/Grey"/>
    <turnGravityOff>true</turnGravityOff>
  </gazebo>
  <gazebo reference="katana_motor5_wrist_roll_link">
    <material value="Gazebo/Grey"/>
    <turnGravityOff>true</turnGravityOff>
  </gazebo>
  <gazebo reference="katana_gripper_link">
    <material value="Gazebo/Grey"/>
    <turnGravityOff>true</turnGravityOff>
  </gazebo>
  <gazebo reference="katana_r_finger_link">
    <material value="Gazebo/Grey"/>
    <turnGravityOff>true</turnGravityOff>
  </gazebo>
  <gazebo reference="katana_l_finger_link">
    <material value="Gazebo/Grey"/>
    <turnGravityOff>true</turnGravityOff>
  </gazebo>
  <gazebo reference="katana_motor1_pan_joint">
    <initial_joint_position>-3.022</initial_joint_position>
  </gazebo>
  <gazebo reference="katana_motor2_lift_joint">
    <initial_joint_position>2.163</initial_joint_position>
  </gazebo>
  <gazebo reference="katana_motor3_lift_joint">
    <initial_joint_position>-2.207</initial_joint_position>
  </gazebo>
  <gazebo reference="katana_motor4_lift_joint">
    <initial_joint_position>-2.026</initial_joint_position>
  </gazebo>
  <gazebo reference="katana_motor5_wrist_roll_joint">
    <initial_joint_position>-2.990</initial_joint_position>
  </gazebo>
  <gazebo reference="katana_r_finger_joint">
    <initial_joint_position>0.3</initial_joint_position>
  </gazebo>
  <gazebo reference="katana_l_finger_joint">
    <initial_joint_position>0.3</initial_joint_position>
  </gazebo>
  <link name="katana_base_link">
    <visual>
      <origin rpy="0 0 0" xyz="0 0 0"/>
      <geometry>
        <mesh filename="package://katana_description/meshes/katana/katana_base_link.stl"/>
      </geometry>
      <material name="grey">
        <color rgba="0.8 0.8 0.8 1"/>
      </material>
    </visual>
    <collision>
      <origin rpy="0 0 0" xyz="0 0 0"/>
      <geometry>
        <mesh filename="package://katana_description/meshes/katana/convex/katana_base_link_convex.stl"/>
      </geometry>
    </collision>
    <inertial>
      <mass value="1.4047990875"/>
      <origin xyz="-0.000327 0.000908 0.058457"/>
      <inertia ixx="0.003000703" ixy="0.000000864" ixz="-0.000011312" iyy="0.002974822" iyz="0.000036294" izz="0.001434739"/>
    </inertial>
  </link>
  <joint name="katana_motor1_pan_joint" type="revolute">
    <!-- Joint 1 in Katana Manual -->
    <parent link="katana_base_link"/>
    <child link="katana_motor1_pan_link"/>
    <origin rpy="0 0 0" xyz="0 0 0.2015"/>
    <axis xyz="0 0 1"/>
    <limit effort="1.5" lower="-3.025528" upper="2.891097" velocity="2.208932"/>
  </joint>
  <link name="katana_motor1_pan_link">
    <visual>
      <origin rpy="0 0 0" xyz="0 0 -0.2015"/>
      <geometry>
        <mesh filename="package://katana_description/meshes/katana/katana_motor1_pan_link.stl"/>
      </geometry>
      <material name="grey"/>
    </visual>
    <collision>
      <origin rpy="0 0 0" xyz="0 0 -0.2015"/>
      <geometry>
        <mesh filename="package://katana_description/meshes/katana/convex/katana_motor1_pan_link_convex.stl"/>
      </geometry>
    </collision>
    <inertial>
      <mass value="0.74793301875"/>
      <origin xyz="-0.000410 -0.001285 -0.016774"/>
      <inertia ixx="0.001737241" ixy="0.000000421" ixz="0.000000650" iyy="0.000998782" iyz="0.000016114" izz="0.001349170"/>
    </inertial>
  </link>
  <joint name="katana_motor2_lift_joint" type="revolute">
    <!-- Joint 2 in Katana Manual -->
    <parent link="katana_motor1_pan_link"/>
    <child link="katana_motor2_lift_link"/>
    <origin rpy="1.57079632679 0 0" xyz="0 0 0"/>
    <axis xyz="0 0 1"/>
    <limit effort="0.6" lower="-0.135228" upper="2.168572" velocity="1.190799"/>
  </joint>
  <link name="katana_motor2_lift_link">
    <visual>
      <origin rpy="-1.57079632679 0 0" xyz="0 0 0"/>
      <geometry>
        <mesh filename="package://katana_description/meshes/katana/katana_motor2_lift_link.stl"/>
      </geometry>
      <!-- <geometry>
          <cylinder length="${link2_length}" radius="0.02"/>
        </geometry>
        <origin rpy="0 ${-M_PI/2} 0" xyz="${link2_length/2} 0 0" /> -->
      <material name="grey"/>
    </visual>
    <collision>
      <origin rpy="-1.57079632679 0 0" xyz="0 0 0"/>
      <geometry>
        <mesh filename="package://katana_description/meshes/katana/convex/katana_motor2_lift_link_convex.stl"/>
      </geometry>
    </collision>
    <inertial>
      <mass value="0.80174941875"/>
      <origin xyz="0.092420 0.005283 0.000172"/>
      <inertia ixx="0.000478252" ixy="0.000081166" ixz="0.000003961" iyy="0.004314636" iyz="0.000000332" izz="0.004625444"/>
    </inertial>
  </link>
  <joint name="katana_motor3_lift_joint" type="revolute">
    <!-- Joint 3 in Katana Manual -->
    <parent link="katana_motor2_lift_link"/>
    <child link="katana_motor3_lift_link"/>
    <origin rpy="0 0 0" xyz="0.19 0 0"/>
    <axis xyz="0 0 1"/>
    <!-- unexplicably, the measured velocity limit of this motor is exactly half of what vel_enc2rad(180) says -->
    <limit effort="0.25" lower="-2.221804" upper="2.054223" velocity="1.190799"/>
  </joint>
  <link name="katana_motor3_lift_link">
    <visual>
      <origin rpy="-1.57079632679 0 0" xyz="0 0 0"/>
      <geometry>
        <mesh filename="package://katana_description/meshes/katana/katana_motor3_lift_link.stl"/>
      </geometry>
      <!--<geometry>
          <cylinder length="${link3_length}" radius="0.02"/>
        </geometry>
        <origin rpy="0 ${-M_PI/2} 0" xyz="${link3_length/2} 0 0" />-->
      <material name="grey"/>
    </visual>
    <collision>
      <origin rpy="-1.57079632679 0 0" xyz="0 0 0"/>
      <geometry>
        <mesh filename="package://katana_description/meshes/katana/convex/katana_motor3_lift_link_convex.stl"/>
      </geometry>
    </collision>
    <inertial>
      <mass value="0.79241664375"/>
      <origin xyz="0.058036 0.008963 -0.000187"/>
      <inertia ixx="0.001156089" ixy="0.000112877" ixz="-0.000004398" iyy="0.002305646" iyz="-0.000000036" izz="0.003128648"/>
    </inertial>
  </link>
  <joint name="katana_motor4_lift_joint" type="revolute">
    <!-- Joint 4 in Katana Manual -->
    <parent link="katana_motor3_lift_link"/>
    <child link="katana_motor4_lift_link"/>
    <origin rpy="3.14159265359 0 0" xyz="0.139 0 0"/>
    <axis xyz="0 0 1"/>
    <limit effort="0.1" lower="-2.033309" upper="1.876133" velocity="2.208932"/>
  </joint>
  <link name="katana_motor4_lift_link">
    <visual>
      <origin rpy="1.57079632679 0 0" xyz="0 0 0"/>
      <geometry>
        <mesh filename="package://katana_description/meshes/katana/katana_motor4_lift_link.stl"/>
      </geometry>
      <!-- <geometry>
          <cylinder length="${link4_length}" radius="0.02"/>
        </geometry>
        <origin rpy="0 ${-M_PI/2} 0" xyz="${link4_length/2} 0 0" /> -->
      <material name="grey"/>
    </visual>
    <collision>
      <origin rpy="1.57079632679 0 0" xyz="0 0 0"/>
      <geometry>
        <mesh filename="package://katana_description/meshes/katana/convex/katana_motor4_lift_link_convex.stl"/>
      </geometry>
    </collision>
    <inertial>
      <mass value="0.69149323125"/>
      <origin xyz="0.050401 0.005807 0.000000"/>
      <inertia ixx="0.000765999" ixy="0.000045260" ixz="-0.000001210" iyy="0.001504115" iyz="0.000000147" izz="0.001887277"/>
    </inertial>
  </link>
  <joint name="katana_motor5_wrist_roll_joint" type="revolute">
    <!-- Joint 5 in Katana Manual -->
    <parent link="katana_motor4_lift_link"/>
    <child link="katana_motor5_wrist_roll_link"/>
    <origin rpy="1.57079632679 0 -1.57079632679" xyz="0.1523 0 0"/>
    <axis xyz="0 0 1"/>
    <limit effort="0.01" lower="-2.993240" upper="2.870985" velocity="2.208932"/>
  </joint>
  <link name="katana_motor5_wrist_roll_link">
    <visual>
      <origin rpy="0 3.14159265359 0" xyz="0 0 0"/>
      <geometry>
        <mesh filename="package://katana_description/meshes/katana/katana_motor5_wrist_roll_link.stl"/>
      </geometry>
      <!--<geometry>
          <cylinder length="${link5_length}" radius="0.02"/>
        </geometry>
        <origin rpy="0 ${-M_PI/2} 0" xyz="${link5_length/2} 0 0" />-->
      <material name="grey"/>
    </visual>
    <collision>
      <origin rpy="0 3.14159265359 0" xyz="0 0 0"/>
      <geometry>
        <mesh filename="package://katana_description/meshes/katana/convex/katana_motor5_wrist_roll_link_convex.stl"/>
      </geometry>
    </collision>
    <inertial>
      <mass value="0.25622555625"/>
      <origin xyz="-0.003140899 0.000013920 0.001680144"/>
      <inertia ixx="0.000120481" ixy="0.000000015" ixz="-0.000001089" iyy="0.000132130" iyz="-0.000000124" izz="0.000093522"/>
    </inertial>
  </link>
  <joint name="katana_gripper_joint" type="fixed">
    <parent link="katana_motor5_wrist_roll_link"/>
    <child link="katana_gripper_link"/>
    <origin rpy="0 1.57079632679 0" xyz="0 0 -0.0323"/>
  </joint>
  <link name="katana_gripper_link">
    <visual>
      <origin rpy="0 3.14159265359 0" xyz="0 0 0"/>
      <geometry>
        <mesh filename="package://katana_description/meshes/katana/katana_gripper_link.stl"/>
      </geometry>
      <material name="grey"/>
    </visual>
    <collision>
      <origin rpy="0 3.14159265359 0" xyz="0 0 0"/>
      <geometry>
        <mesh filename="package://katana_description/meshes/katana/convex/katana_gripper_link_convex.stl"/>
      </geometry>
    </collision>
    <inertial>
      <mass value="0.0552136183596"/>
      <origin xyz="-0.014379 -0.000000 0.000006"/>
      <inertia ixx="0.000011468" ixy="0.000000000" ixz="0.000000007" iyy="0.000013830" iyz="0.000000000" izz="0.000011290"/>
    </inertial>
  </link>
  <joint name="katana_r_finger_joint" type="revolute">
    <parent link="katana_gripper_link"/>
    <child link="katana_r_finger_link"/>
    <origin rpy="0 0 0" xyz="0.034 0 0"/>
    <axis xyz="0 0 1"/>
    <limit effort="0.5" lower="-0.44" upper="0.30" velocity="0.718834"/>
  </joint>
  <link name="katana_r_finger_link">
    <visual>
      <origin rpy="0 3.14159265359 0" xyz="0 0 0"/>
      <geometry>
        <mesh filename="package://katana_description/meshes/katana/katana_gripper_r_finger.stl"/>
      </geometry>
      <material name="grey"/>
    </visual>
    <collision>
      <origin rpy="0 3.14159265359 0" xyz="0 0 0"/>
      <geometry>
        <mesh filename="package://katana_description/meshes/katana/convex/katana_gripper_r_finger_convex.stl"/>
      </geometry>
    </collision>
    <inertial>
      <mass value="0.0251722230462"/>
      <origin xyz="0.001784 0.025167 -.001603"/>
      <inertia ixx="0.000005990" ixy="0.000008473" ixz="0.000001448" iyy="0.000019757" iyz="-0.000000996" izz="0.000023588"/>
    </inertial>
  </link>
  <joint name="katana_l_finger_joint" type="revolute">
    <parent link="katana_gripper_link"/>
    <child link="katana_l_finger_link"/>
    <origin rpy="3.14159265359 0 0" xyz="0.034 0 0"/>
    <axis xyz="0 0 1"/>
    <limit effort="0.5" lower="-0.44" upper="0.30" velocity="0.718834"/>
  </joint>
  <link name="katana_l_finger_link">
    <visual>
      <origin rpy="0 3.14159265359 0" xyz="0 0 0"/>
      <geometry>
        <mesh filename="package://katana_description/meshes/katana/katana_gripper_l_finger.stl"/>
      </geometry>
      <material name="grey"/>
    </visual>
    <collision>
      <origin rpy="0 3.14159265359 0" xyz="0 0 0"/>
      <geometry>
        <mesh filename="package://katana_description/meshes/katana/convex/katana_gripper_l_finger_convex.stl"/>
      </geometry>
    </collision>
    <inertial>
      <mass value="0.0251722230462"/>
      <origin xyz="0.001784 0.025167 -.001603"/>
      <inertia ixx="0.000005990" ixy="0.000008473" ixz="0.000001448" iyy="0.000019757" iyz="-0.000000996" izz="0.000023588"/>
    </inertial>
  </link>
  <joint name="katana_gripper_tool_frame_joint" type="fixed">
    <parent link="katana_motor5_wrist_roll_link"/>
    <child link="katana_gripper_tool_frame"/>
    <origin rpy="0 1.57079632679 0" xyz="0 0 -0.1505"/>
  </joint>
  <link name="katana_gripper_tool_frame">
    <!-- This is the coordinate system of the tool (this is the position
         used in IK etc., relative to the base frame); there is no actual
         arm part attached to this link -->
  </link>
  <joint name="katana_base_frame_joint" type="fixed">
    <parent link="katana_base_link"/>
    <child link="katana_base_frame"/>
    <origin rpy="0 0 0" xyz="0 0 0.2015"/>
  </joint>
  <link name="katana_base_frame">
    <!-- This is the reference coordinate system of the arm (the KNI kinematics are specified
         in this frame); there is no actual arm part attached to this link -->
  </link>
  <joint name="kurtana_baseplate_katana_baseplate_joint" type="fixed">
    <parent link="katana_baseplate_link"/>
    <child link="katana_base_link"/>
    <origin rpy="0 0 0" xyz="0 0 0"/>
  </joint>
  <joint name="top_base_joint" type="fixed">
    <parent link="base_link"/>
    <child link="kurtana_rackplate_link"/>
    <origin xyz="0 0.0 0.0115"/>
  </joint>
</robot>
